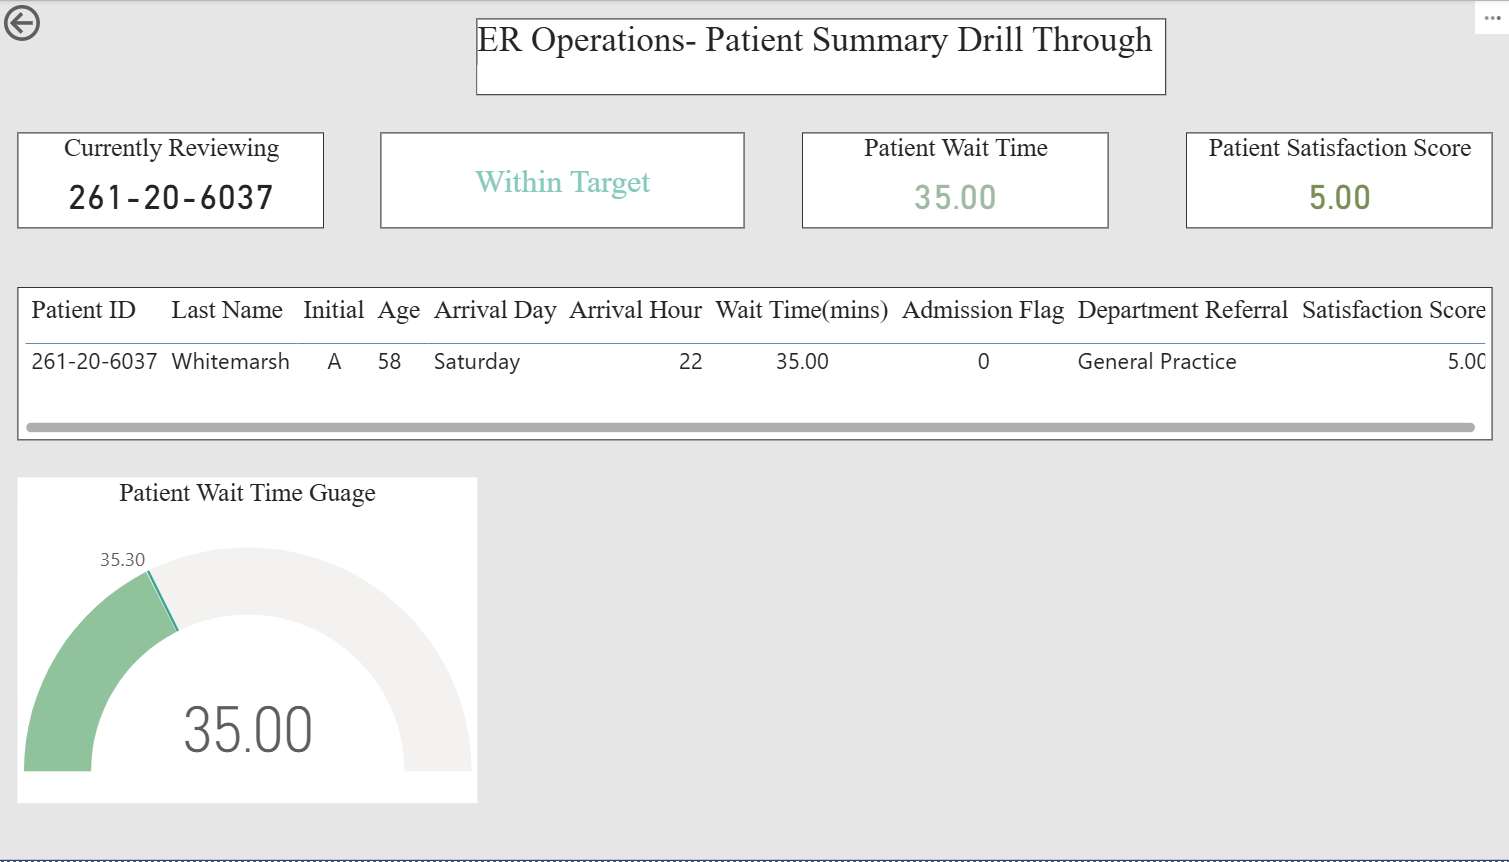

What the dashboard file says about the page in this screenshot:
{"tool":"powerbi","page":{"name":"Patient Detail","canvas":[1280,720],"ordinal":4},"visuals":[{"type":"shape","box":[0,0,1264,720],"z":0},{"type":"actionButton","box":[0,0,100,40],"z":1000},{"type":"card","title":"Currently Reviewing","fields":{"Values":["Min(er ER_Visits.PATIENT_ID)"]},"box":[16,112,256,80],"z":2000},{"type":"card","title":"Patient Satisfaction Score","fields":{"Values":["Avg(er ER_Visits.PATIENT_SATISFACTION_SCORE)"]},"box":[992,112,256,80],"z":3000},{"type":"card","title":"Patient Wait Time","fields":{"Values":["Avg(er ER_Visits.PATIENT_WAITTIME)"]},"box":[672,112,256,80],"z":4000},{"type":"gauge","title":"Patient Wait Time Guage","fields":{"Y":["Avg(er ER_Visits.PATIENT_WAITTIME)"]},"box":[16,400,384,272],"z":5000},{"type":"tableEx","fields":{"Values":["er ER_Visits.PATIENT_ID","er ER_Visits.PATIENT_LAST_NAME","er ER_Visits.PATIENT_FIRST_INITIAL","er ER_Visits.PATIENT_AGE","er ER_Visits.DAY_OF_WEEK","er ER_Visits.HOUR_OF_ARRIVAL","er ER_Visits.PATIENT_WAITTIME","er ER_Visits.PATIENT_ADMISSION_FLAG_NUMERIC","er ER_Visits.DEPARTMENT_REFERRAL","er ER_Visits.PATIENT_SATISFACTION_SCORE"]},"box":[16,240,1232,128],"z":6000},{"type":"card","fields":{"Values":["Date_Table.Performance Status"]},"box":[320,112,304,80],"z":7000},{"type":"shape","title":"ER Operations- Patient Summary Drill Through","box":[400,16,576,64],"z":8000}]}

Visuals, with their boxes in screenshot pixels (x1, y1, x2, y2), scaled from the page's 1280x720 canvas onto the 1509x862 screenshot:
shape: region(0, 0, 1490, 861)
actionButton: region(0, 0, 118, 48)
"Currently Reviewing" card: region(19, 134, 321, 230)
"Patient Satisfaction Score" card: region(1169, 134, 1471, 230)
"Patient Wait Time" card: region(792, 134, 1094, 230)
"Patient Wait Time Guage" gauge: region(19, 479, 472, 805)
tableEx - er ER_Visits.PATIENT_ID x er ER_Visits.PATIENT_LAST_NAME: region(19, 287, 1471, 441)
card - Date_Table.Performance Status: region(377, 134, 736, 230)
"ER Operations- Patient Summary Drill Through" shape: region(472, 19, 1151, 96)
